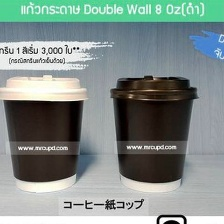paper_cup: (102, 69, 203, 195), (0, 69, 92, 196)
